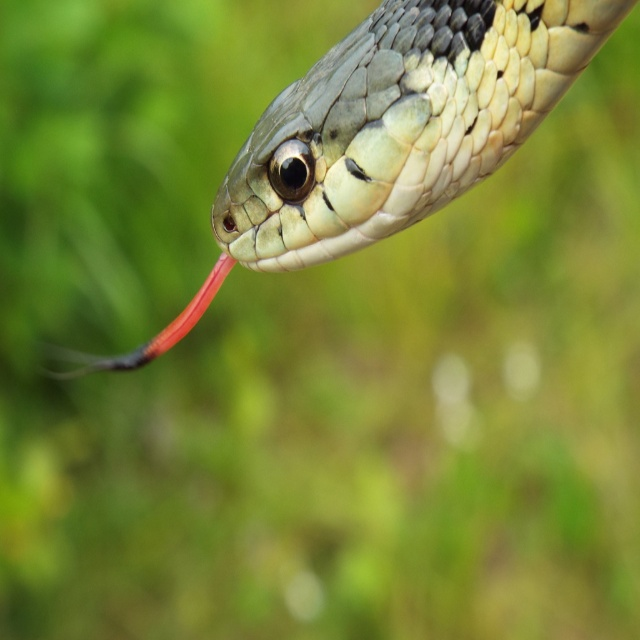Snake: (32, 1, 626, 389)
